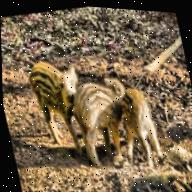boar: (9, 39, 86, 154), (67, 60, 133, 162), (112, 78, 175, 167)
